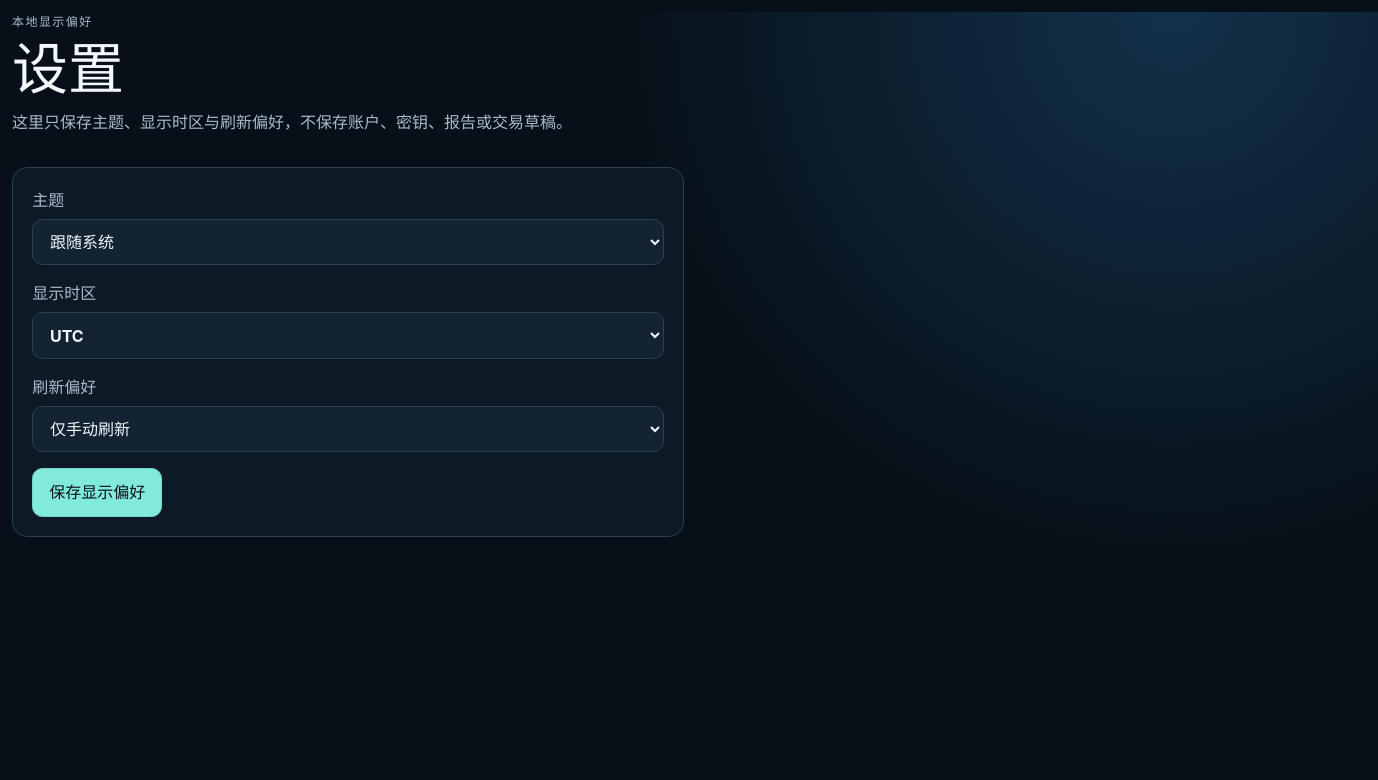
Test case: SettingsPage › keeps rendering with safe feedback when saving localStorage throws
The width and height of the screenshot is (1378, 780).
Click the button "保存显示偏好". click: (97, 492)
box: x1=32 y1=468 x2=162 y2=517
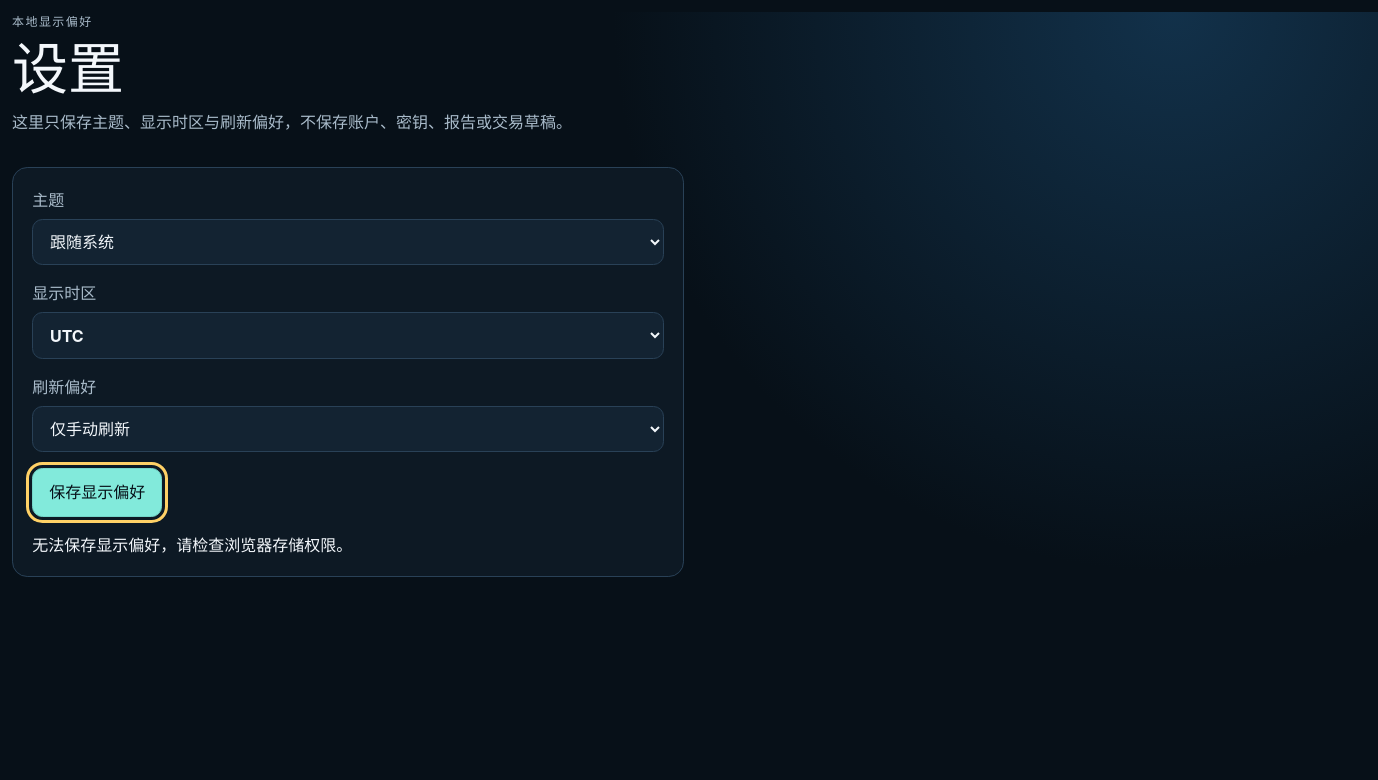
Check: the heading "设置" is shown, box x1=12 y1=35 x2=124 y2=103
Check: the message reads "无法保存显示偏好，请检查浏览器存储权限。", box x1=32 y1=535 x2=352 y2=555
